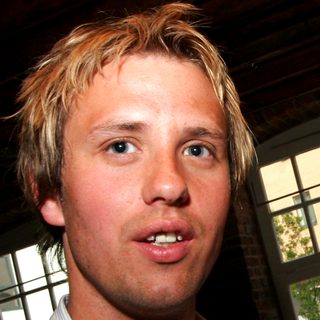eye: (99, 135, 145, 162), (177, 139, 219, 165)
